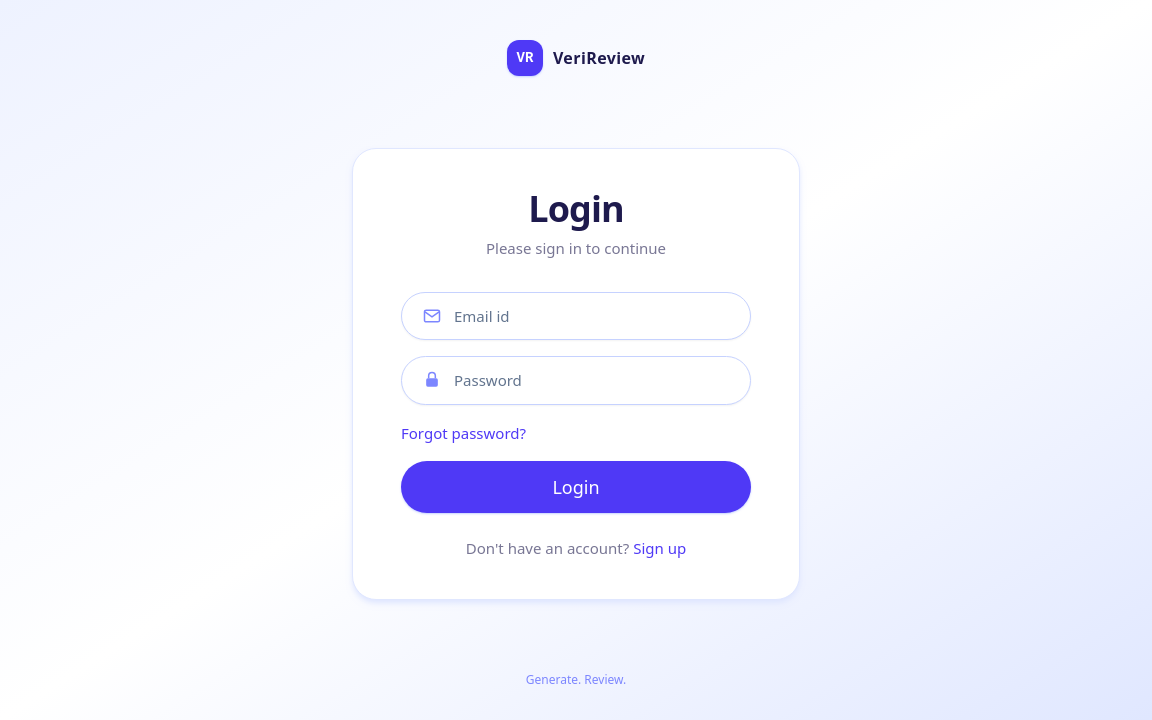
Scenario: LoginPage auth error UX › maps HTTP 401 to invalid credentials without raw status text
The width and height of the screenshot is (1152, 720).
Type "dev@example.com" into the field labelled "Email" at (592, 316), box [454, 304, 730, 327]
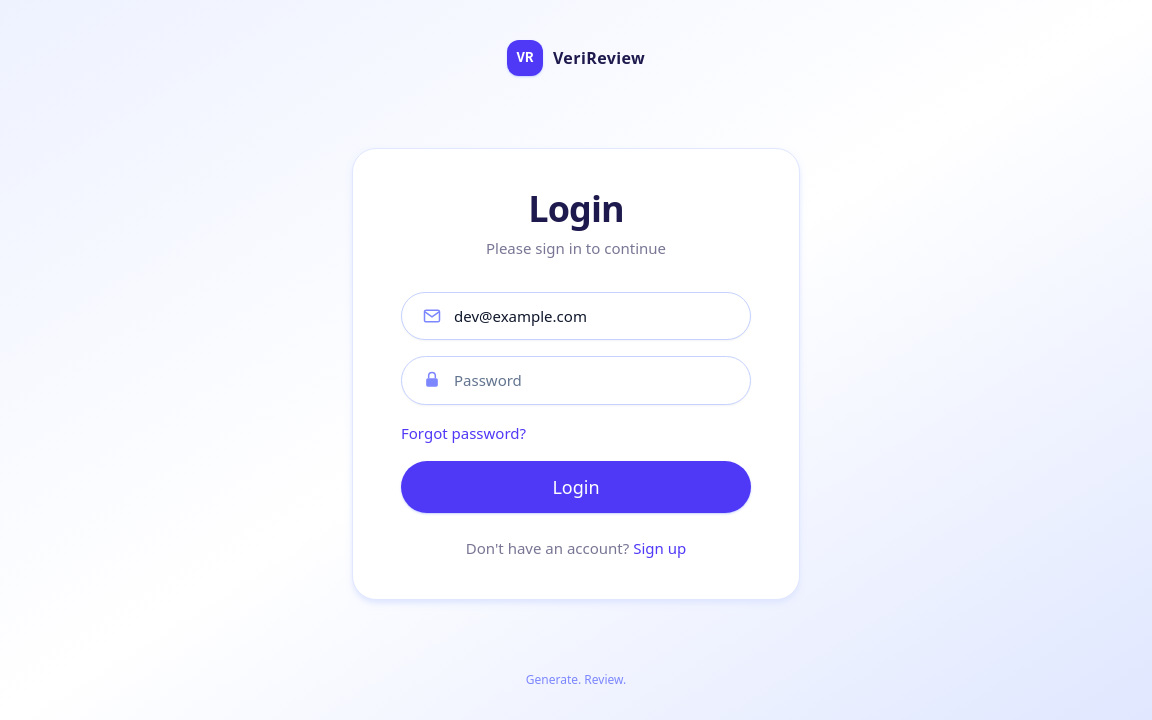
Type "wrong-password" into the password field labelled "Password" at (592, 380), box [454, 369, 730, 392]
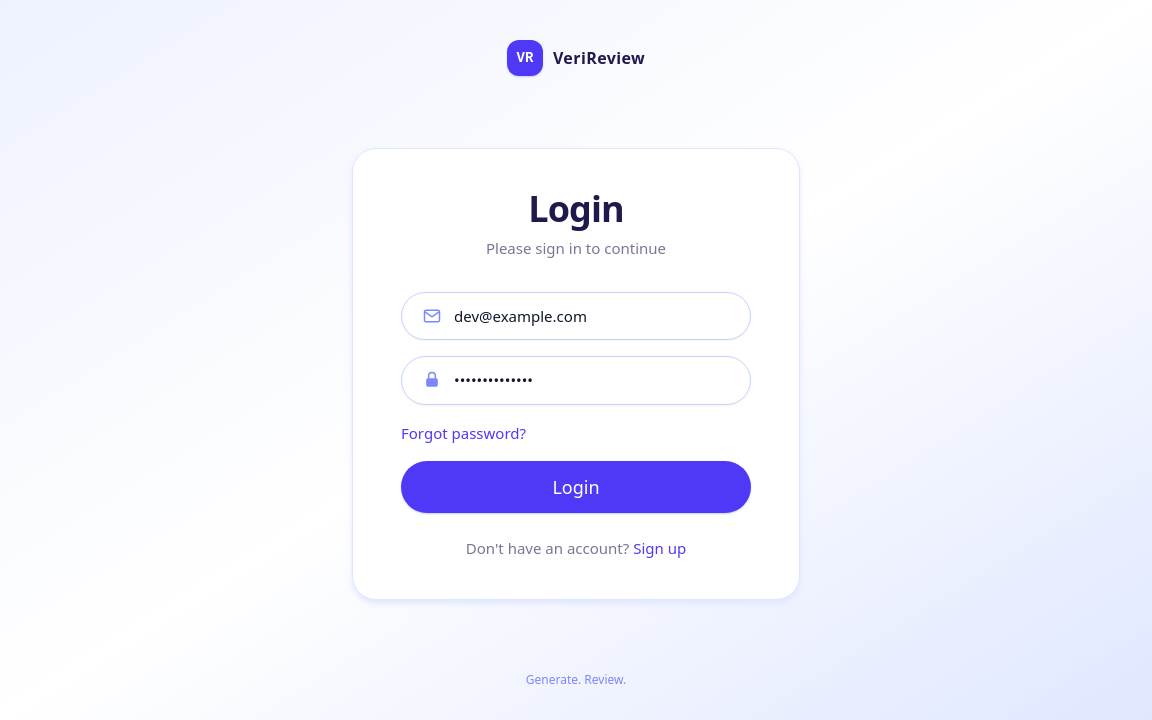
Click the button "Login" at (576, 486), box [401, 460, 751, 512]
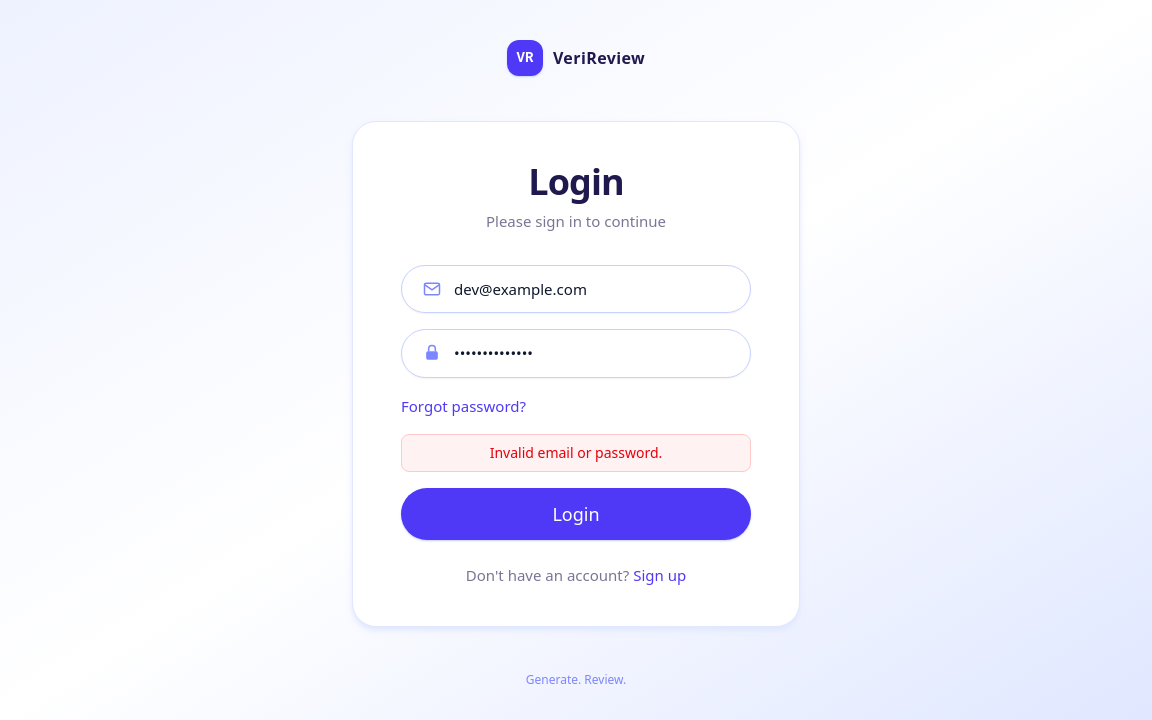
Check: the text "Invalid email or password." is shown, box [401, 434, 751, 472]
